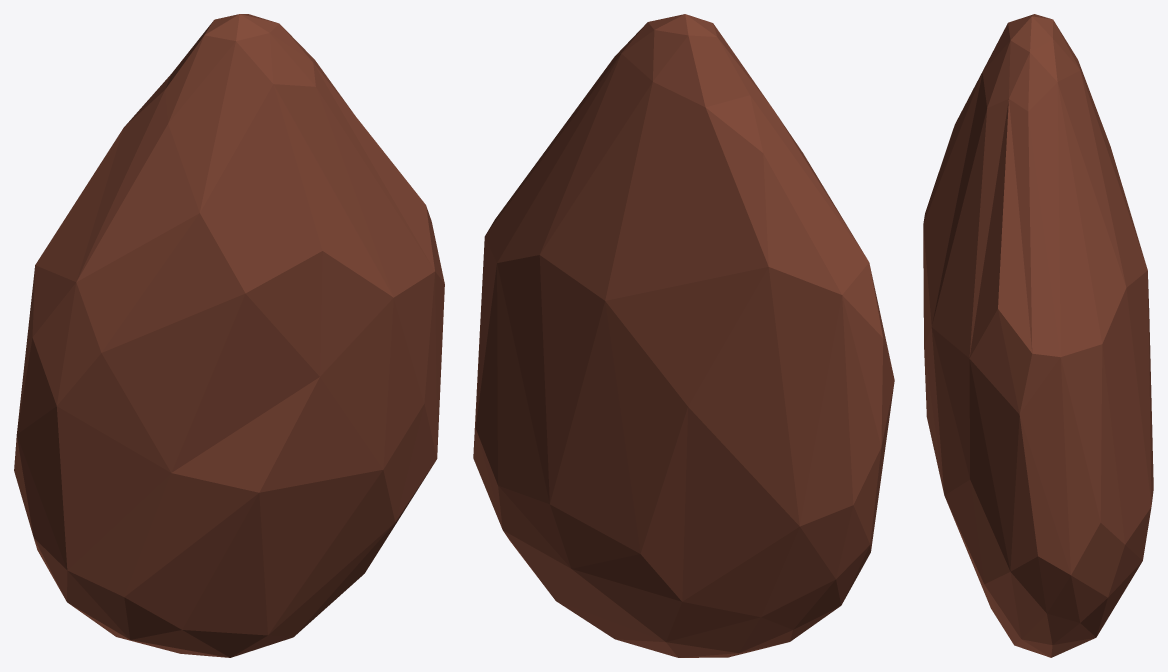
Rendered from Seed.fbx.
3 views of the same model, side by side, from view 1: azimuth 30°, elevation 25°; view 2: azimuth 150°, elevation 25°; view 3: azimuth 270°, elevation 25° (orthographic). The views are drawn at different scales.
Visible parts, largest first — view 1: Seed; view 2: Seed; view 3: Seed.
Boxes of the visible parts, <box> form: Seed: <box>14,14,444,657</box>; Seed: <box>473,14,894,657</box>; Seed: <box>923,14,1153,657</box>.
Bounding box in the file's own units: 0.1996 × 0.2999 × 0.1002.
